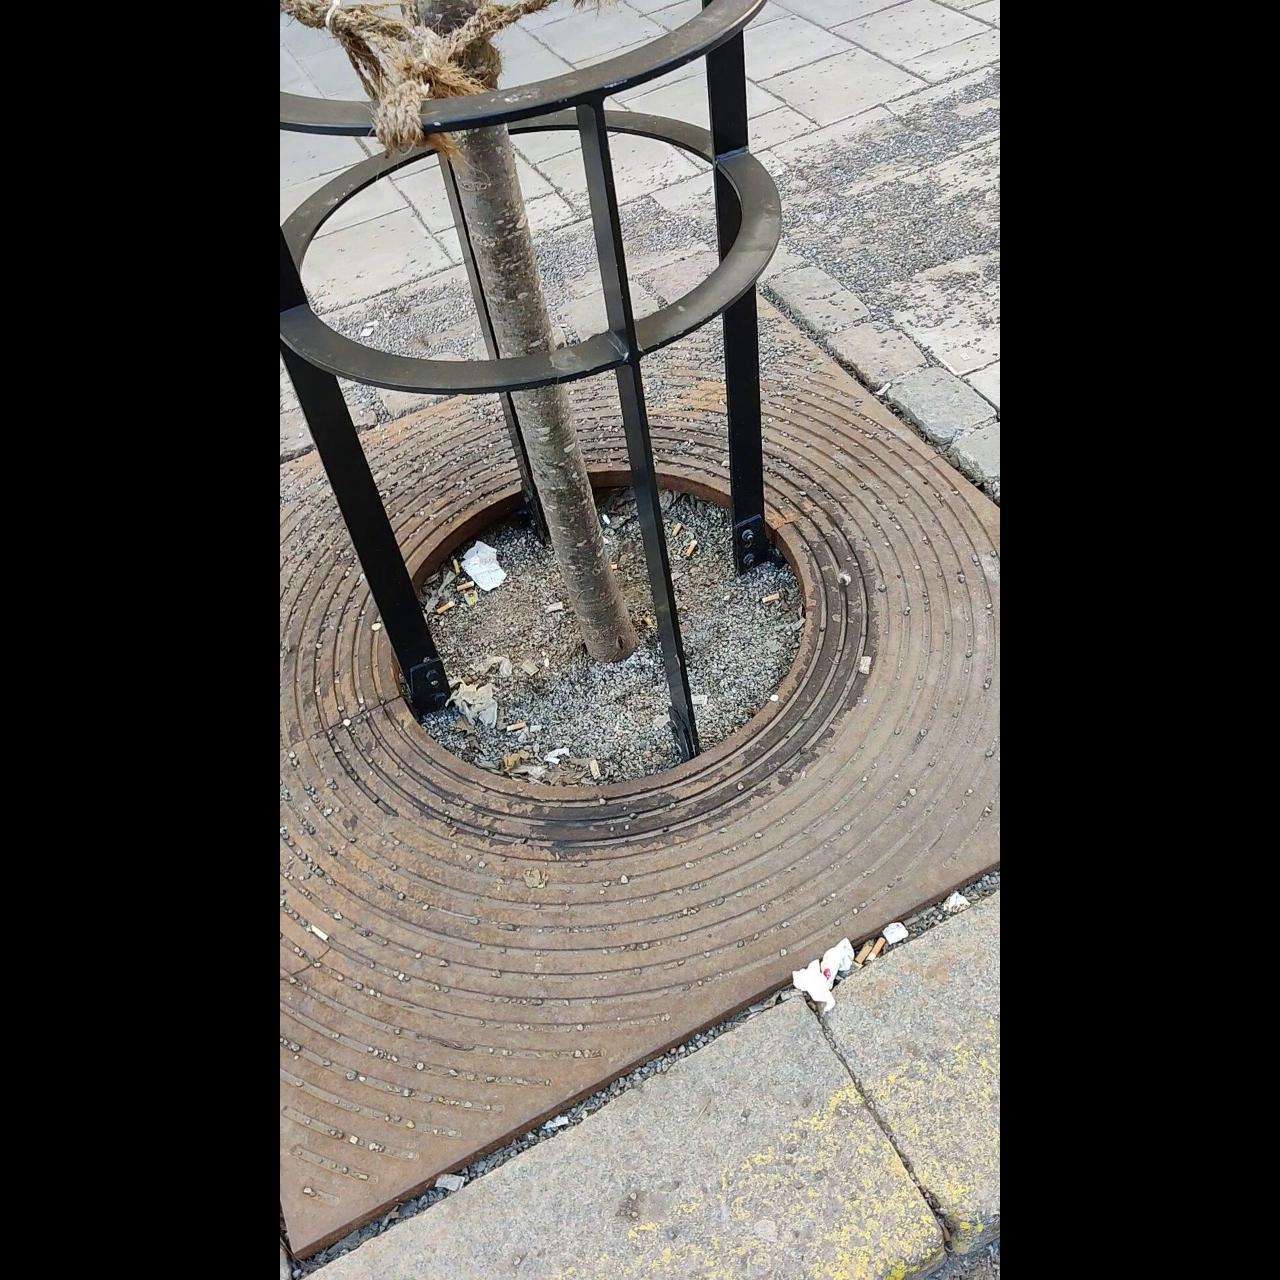cigarettes_butts: (587, 760, 601, 783), (872, 937, 884, 962), (313, 922, 327, 942), (456, 580, 476, 594), (450, 556, 464, 574), (437, 602, 452, 617), (506, 720, 524, 731), (688, 538, 696, 558), (670, 519, 681, 535), (859, 948, 867, 966), (764, 594, 778, 604)
others: (435, 1170, 467, 1191), (539, 602, 565, 613), (520, 660, 537, 674), (862, 656, 871, 675), (879, 382, 888, 394)
